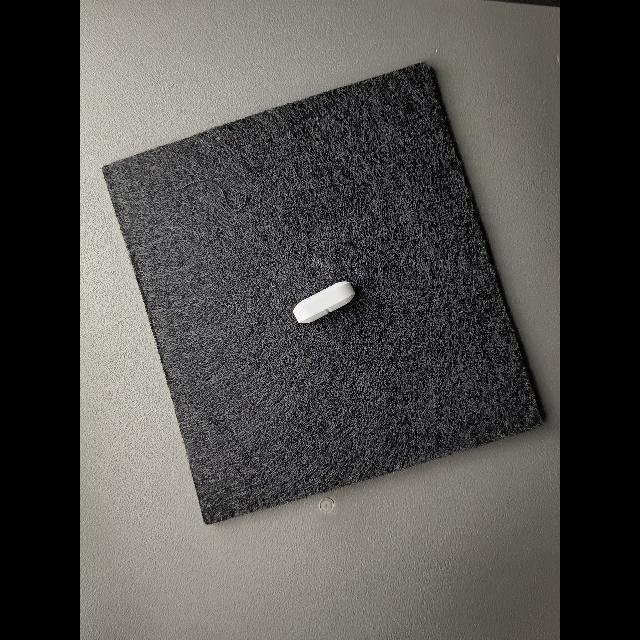Intact Pill: (293, 281, 355, 324)
